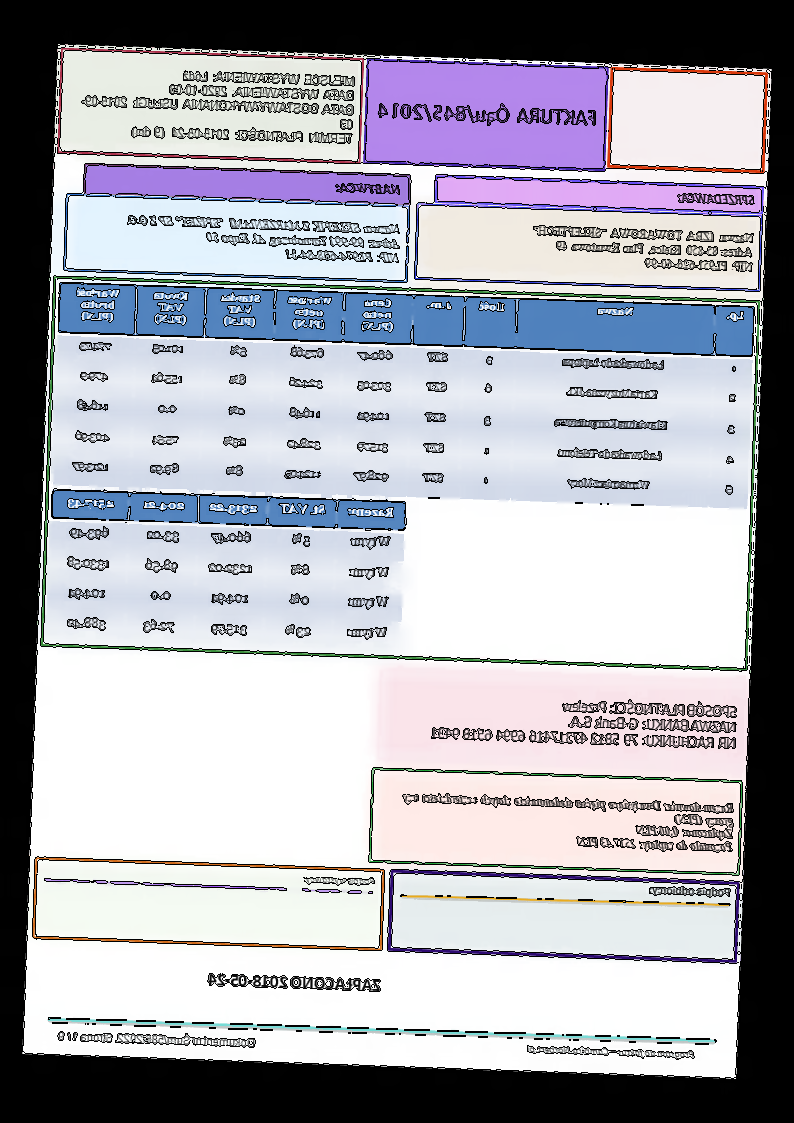Table: (54, 279, 756, 509), (46, 487, 407, 655)
TextBox: (78, 62, 358, 149), (398, 787, 737, 855), (427, 689, 740, 755), (123, 210, 403, 264), (530, 220, 757, 276), (375, 97, 600, 132), (205, 969, 383, 995), (58, 1027, 259, 1050), (526, 1041, 697, 1061), (646, 881, 733, 901), (303, 868, 378, 890), (676, 189, 757, 209), (333, 178, 405, 198)
